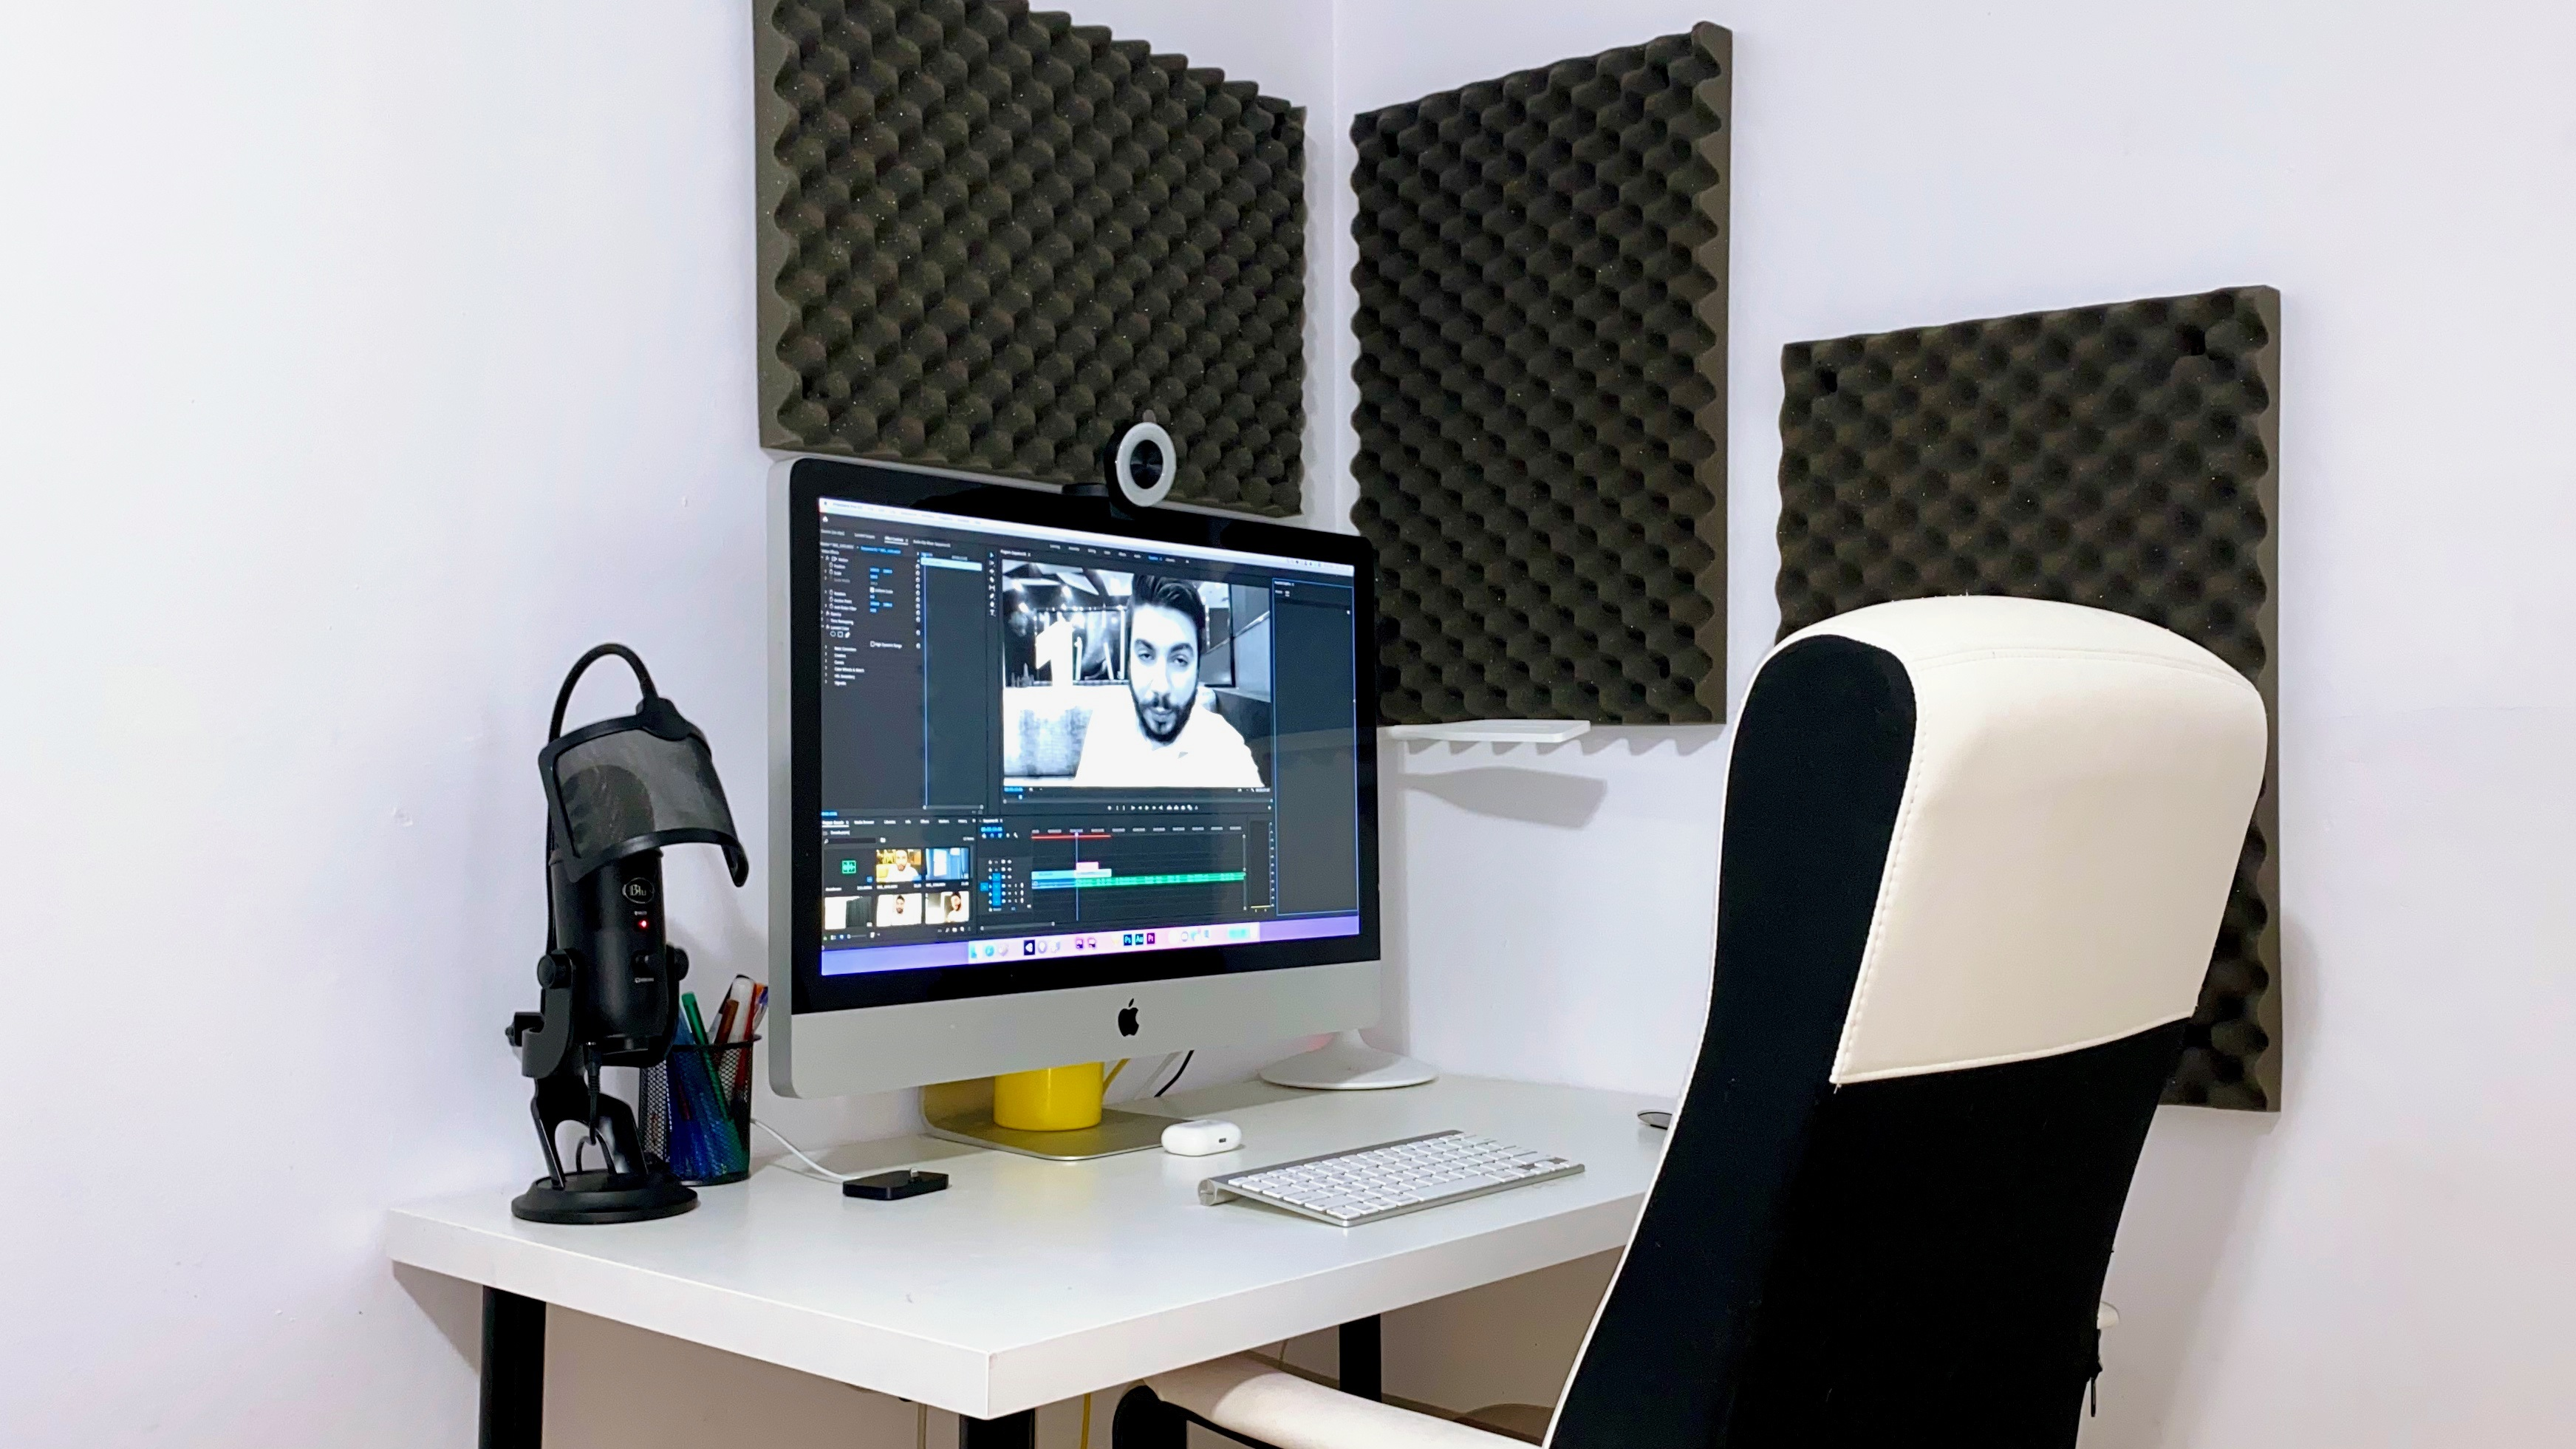Acoustic Foam: (1771, 308, 2286, 1113), (750, 2, 1318, 502), (1350, 81, 1732, 732)
Airpods (Apple): (1162, 1113, 1247, 1162)
Chair (Generic): (1115, 485, 2371, 1449)
Desk (Generic): (393, 1104, 1637, 1399)
External Microphone (Generic): (497, 623, 755, 1244)
External Webcam: (1088, 409, 1184, 529)
Keyboard (Generic): (1192, 1125, 1614, 1231)
Lamp (Desk): (1276, 718, 1587, 1093)
Monitor (iMac): (770, 471, 1389, 1076)
Mouse (Generic): (1635, 1108, 1683, 1136)
USB Hub: (828, 1154, 962, 1212)
